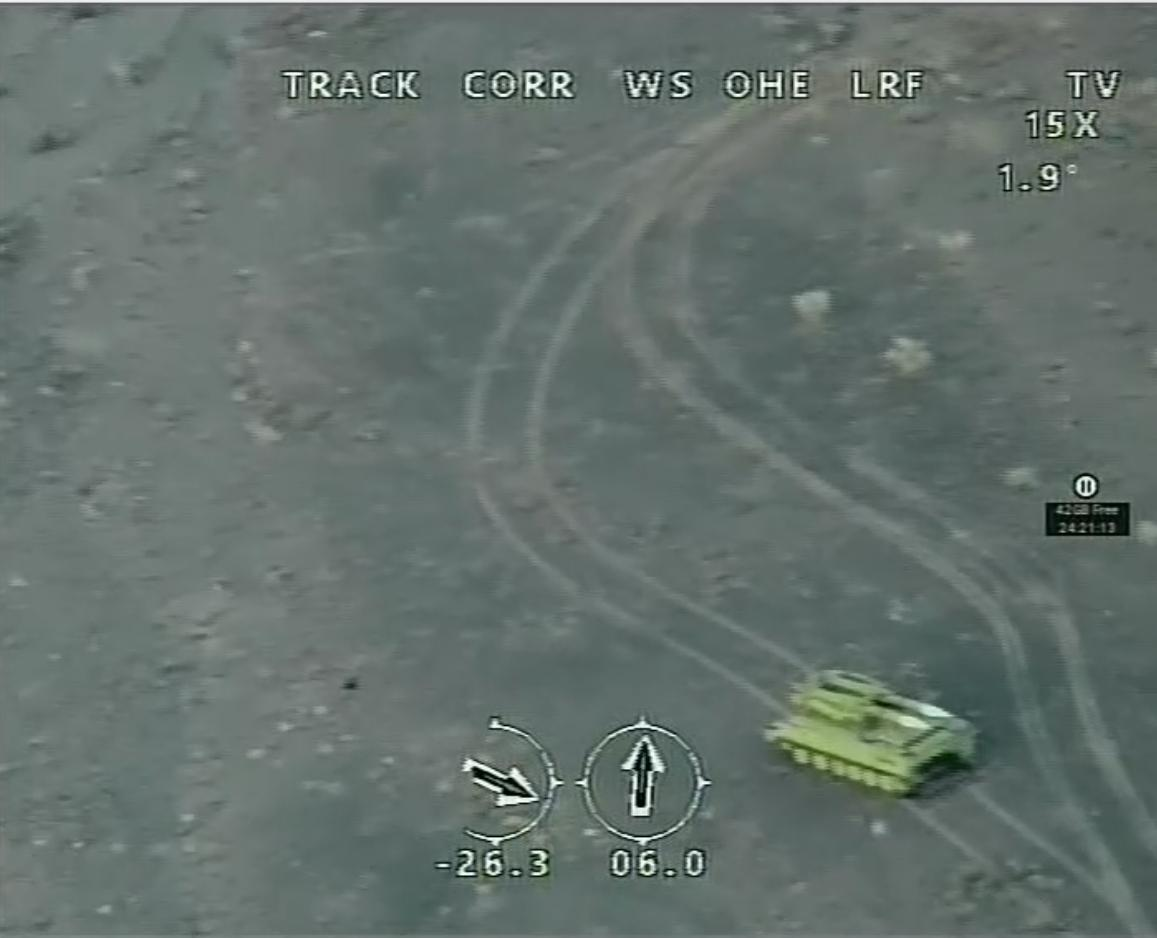armored_car: (758, 663, 981, 802)
